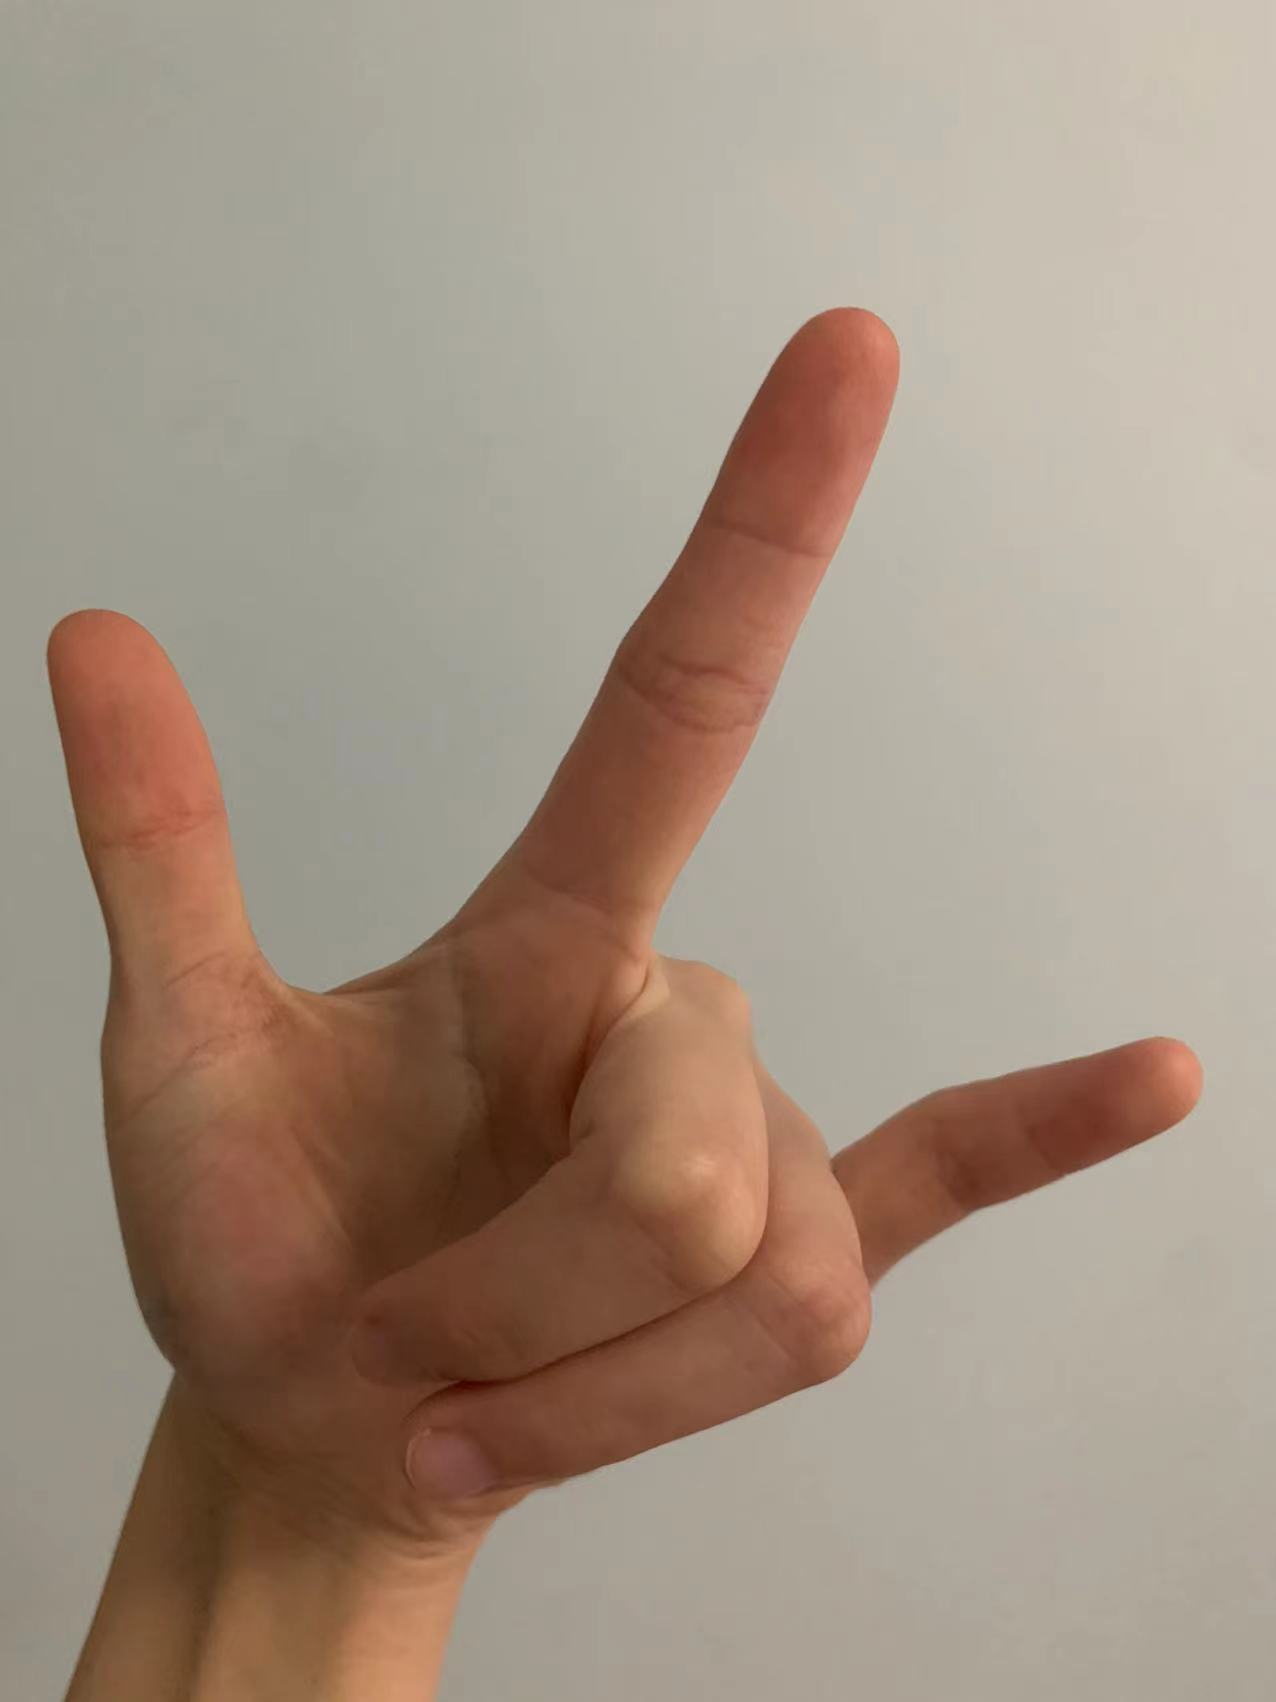back: (31, 293, 1240, 1427)
